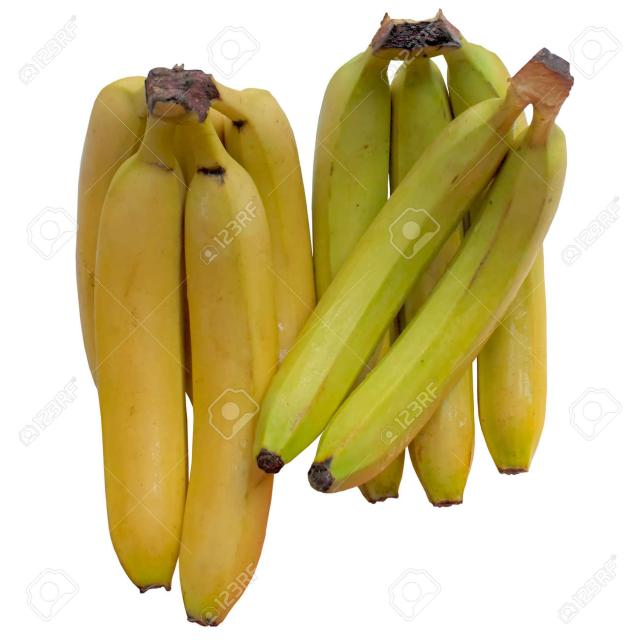Banana: (309, 121, 566, 492), (180, 112, 279, 625), (95, 114, 188, 591), (211, 81, 315, 359), (76, 76, 148, 384), (312, 48, 391, 299), (478, 251, 546, 474), (409, 371, 474, 506), (390, 55, 452, 191), (401, 225, 462, 325)
